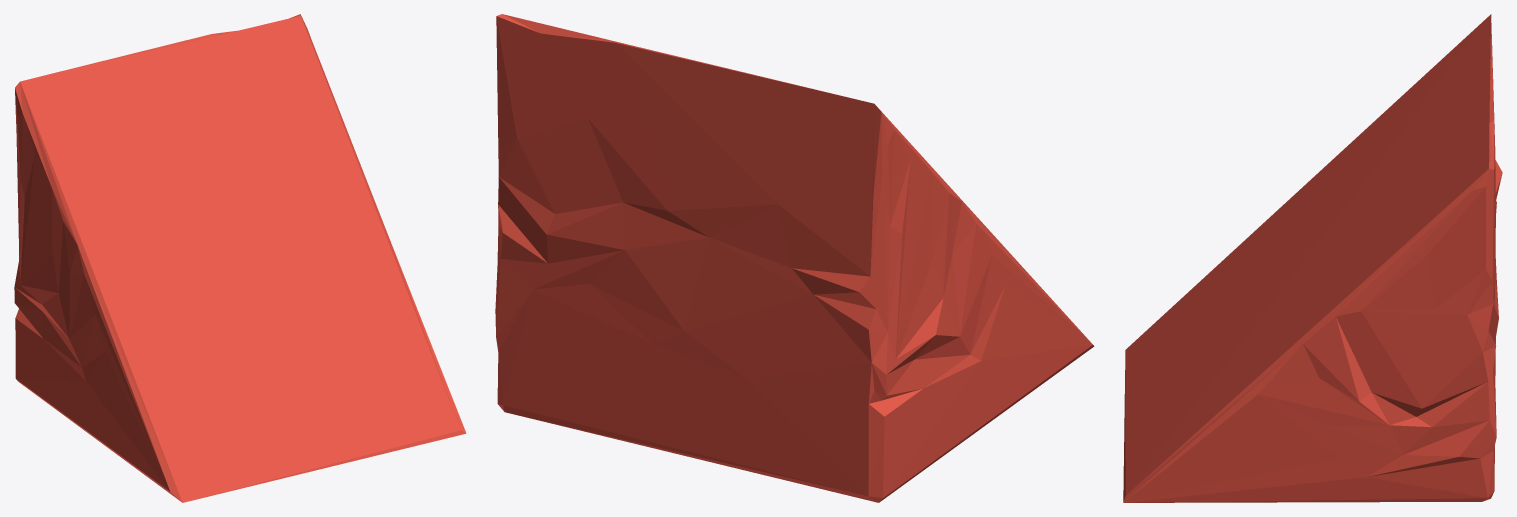
The model's file is SM_Greenscreen_Ramp.fbx.
3 views of the same model, side by side, from view 1: azimuth 30°, elevation 25°; view 2: azimuth 150°, elevation 25°; view 3: azimuth 270°, elevation 25° (orthographic). The views are drawn at different scales.
Visible parts, largest first — view 1: SM_Greenscreen_Ramp; view 2: SM_Greenscreen_Ramp; view 3: SM_Greenscreen_Ramp.
Part boxes in pixels (bbox=[...]): SM_Greenscreen_Ramp: bbox=[14, 14, 466, 502]; SM_Greenscreen_Ramp: bbox=[495, 14, 1094, 502]; SM_Greenscreen_Ramp: bbox=[1123, 14, 1502, 502].
Size of the model in its own units: 101 by 104 by 98.9.
